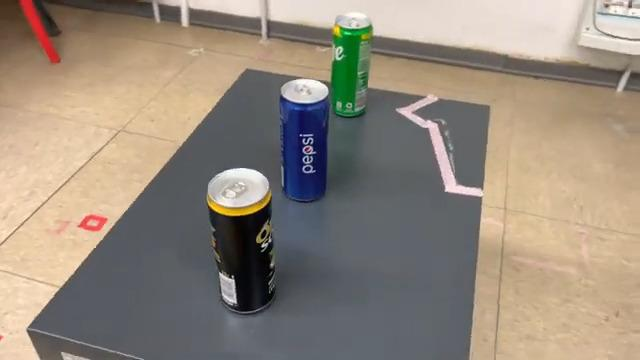OranSoda: (202, 164, 282, 318)
Pepsi: (276, 74, 332, 206)
Sprite: (326, 10, 374, 122)
